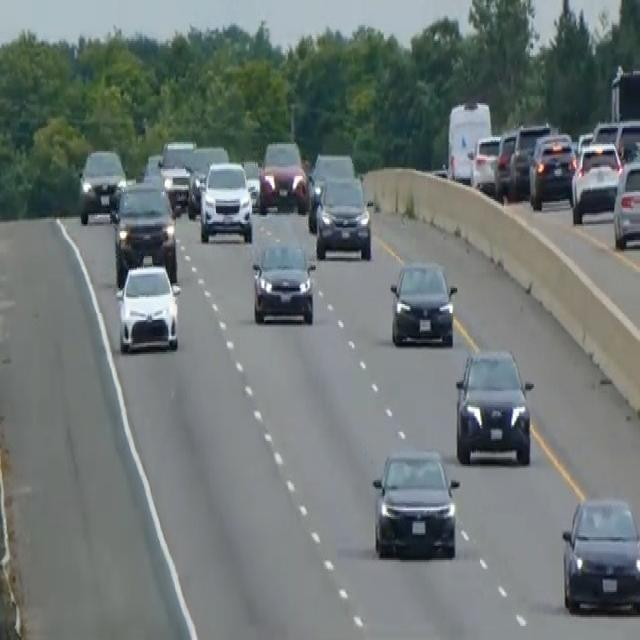car: (371, 444, 459, 560), (454, 345, 534, 466), (560, 493, 639, 615), (249, 214, 316, 326), (112, 180, 178, 282), (115, 261, 181, 354), (389, 258, 457, 346), (314, 172, 372, 260), (570, 139, 622, 224), (307, 150, 355, 230), (77, 146, 126, 224), (258, 139, 309, 213), (528, 132, 576, 210), (186, 144, 229, 217), (509, 121, 550, 195), (158, 137, 195, 208), (612, 156, 639, 249), (592, 117, 639, 162), (470, 132, 502, 192), (310, 150, 354, 190), (493, 128, 517, 199), (159, 137, 195, 172), (242, 158, 261, 208), (142, 151, 162, 185)
jeep: (198, 158, 253, 244)
minibus: (445, 96, 493, 185)
